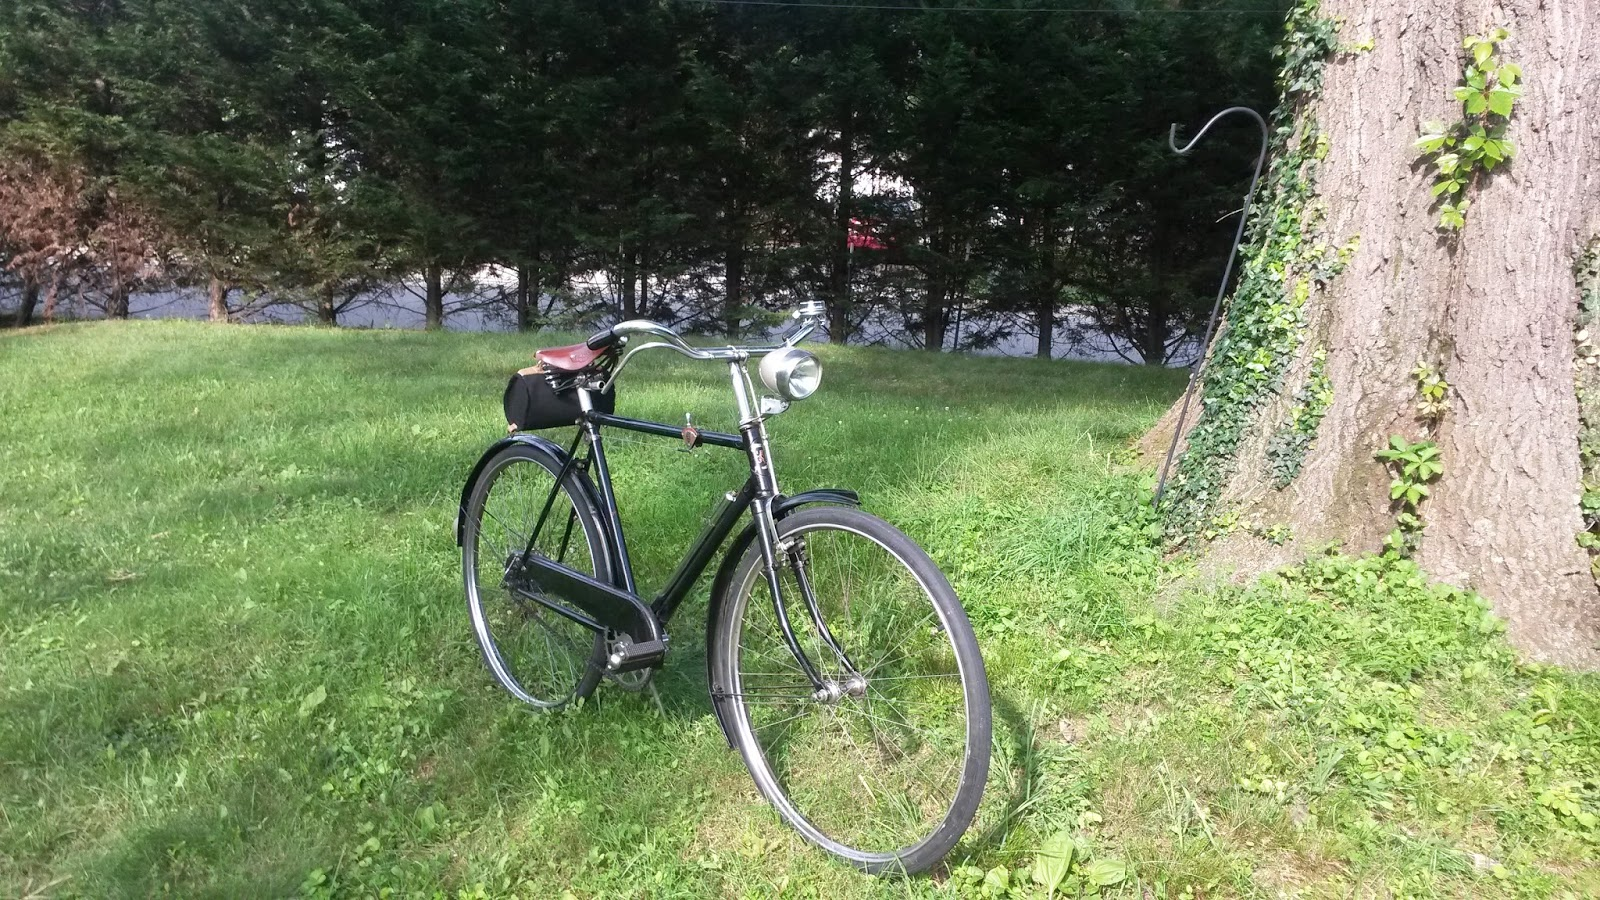cycle: (434, 293, 1060, 880)
